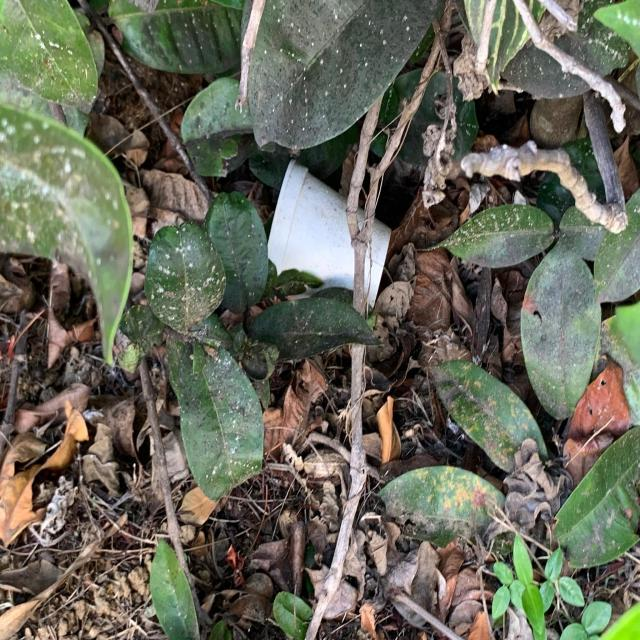litter: (267, 160, 393, 309)
